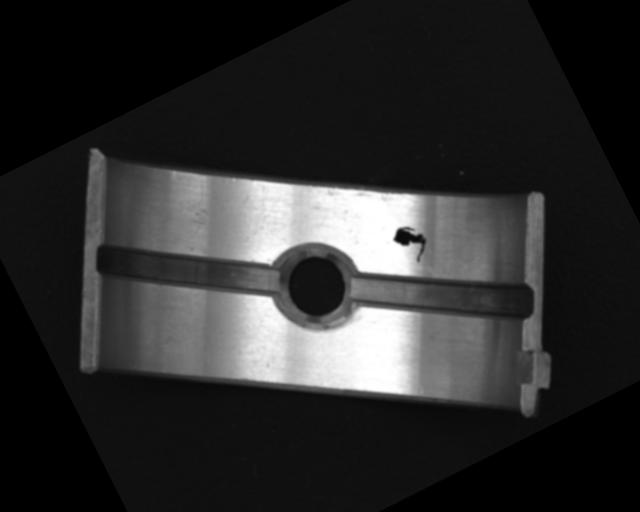blot: (388, 218, 435, 270)
gap: (90, 181, 287, 359), (346, 210, 539, 384)
hole: (271, 238, 366, 336)
